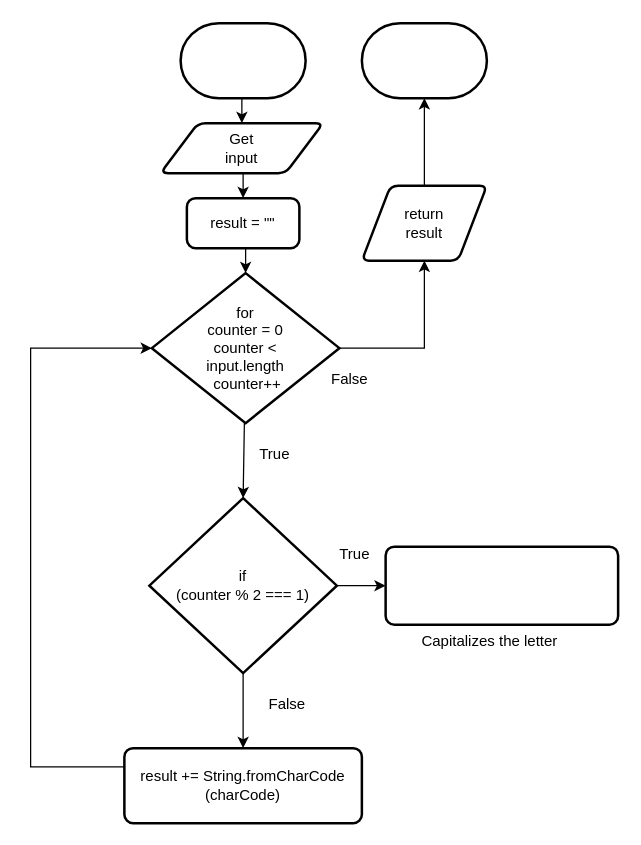
The diagram is 641 pixels wide and 845 high, and some of its shapes have lost their labels. The centre of each missing label's shape, as x and y in pixels:
result += String.fromCharCode(charCode - 32): (x=501, y=585)
Start: (x=242, y=60)
Stop: (x=424, y=60)
